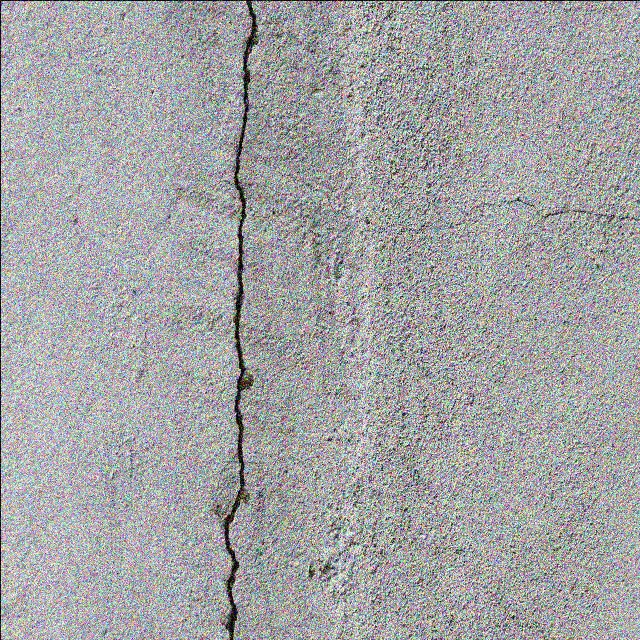SurfaceCrack: (169, 0, 302, 639)
